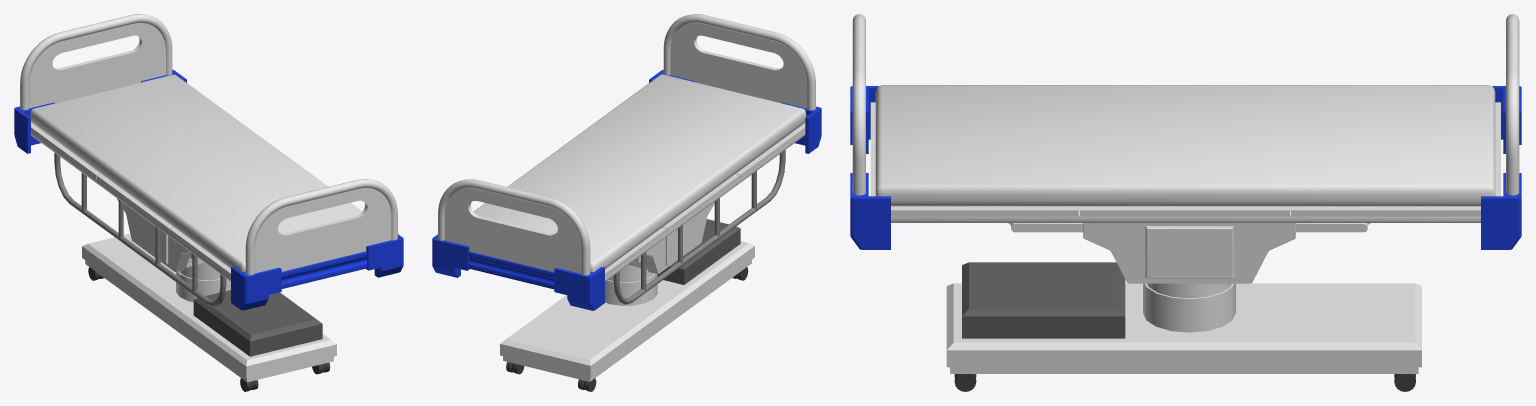
The model's file is Bed.fbx.
3 views of the same model, side by side, from view 1: azimuth 30°, elevation 25°; view 2: azimuth 150°, elevation 25°; view 3: azimuth 270°, elevation 25° (orthographic). The views are drawn at different scales.
Visible parts, largest first — view 1: Bed, Back rest, Bottom; view 2: Bed, Back rest, Bottom; view 3: Bed, Bottom, Back rest.
Boxes of the visible parts, x1,y1,x2,y2 form: Bed: (30, 74, 362, 307); Back rest: (14, 14, 403, 310); Bottom: (82, 198, 336, 391); Bed: (473, 74, 806, 304); Back rest: (432, 14, 821, 310); Bottom: (500, 202, 754, 391); Bed: (870, 85, 1500, 222); Bottom: (946, 223, 1421, 391); Back rest: (850, 14, 1521, 249).
Size of the model in its own units: 0.8775 by 1.15 by 2.21.
